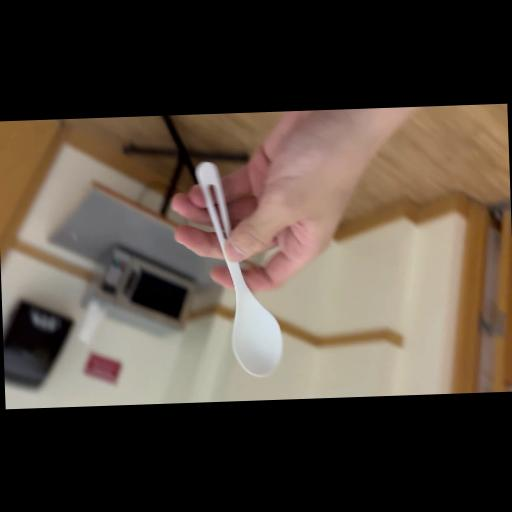utensil: (190, 154, 287, 382)
